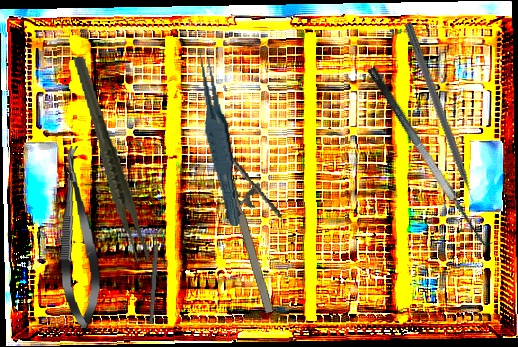Micro Scissor: (52, 144, 104, 330)
Needle Holder: (214, 123, 304, 315)
Pusher: (401, 22, 482, 215)
Spatula Surgical: (365, 56, 501, 254)
Surgical Spoon: (148, 211, 162, 325)
Tissue Forceps: (71, 51, 152, 268), (196, 48, 242, 228)
